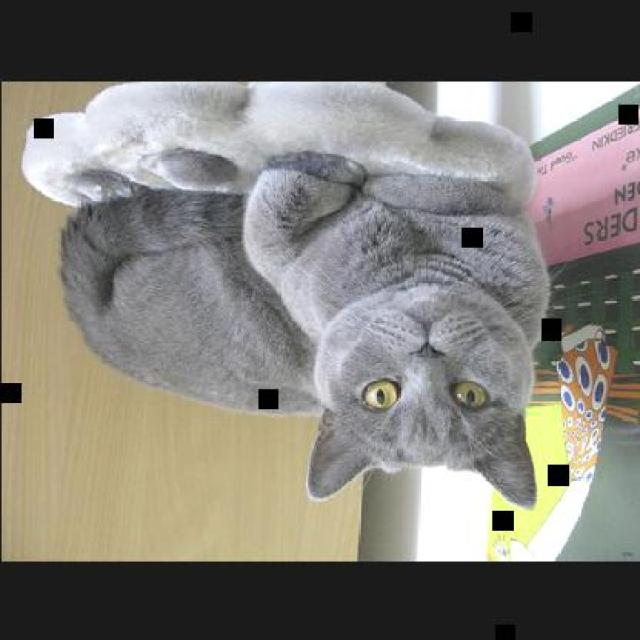unauthorized: (34, 82, 552, 509)
